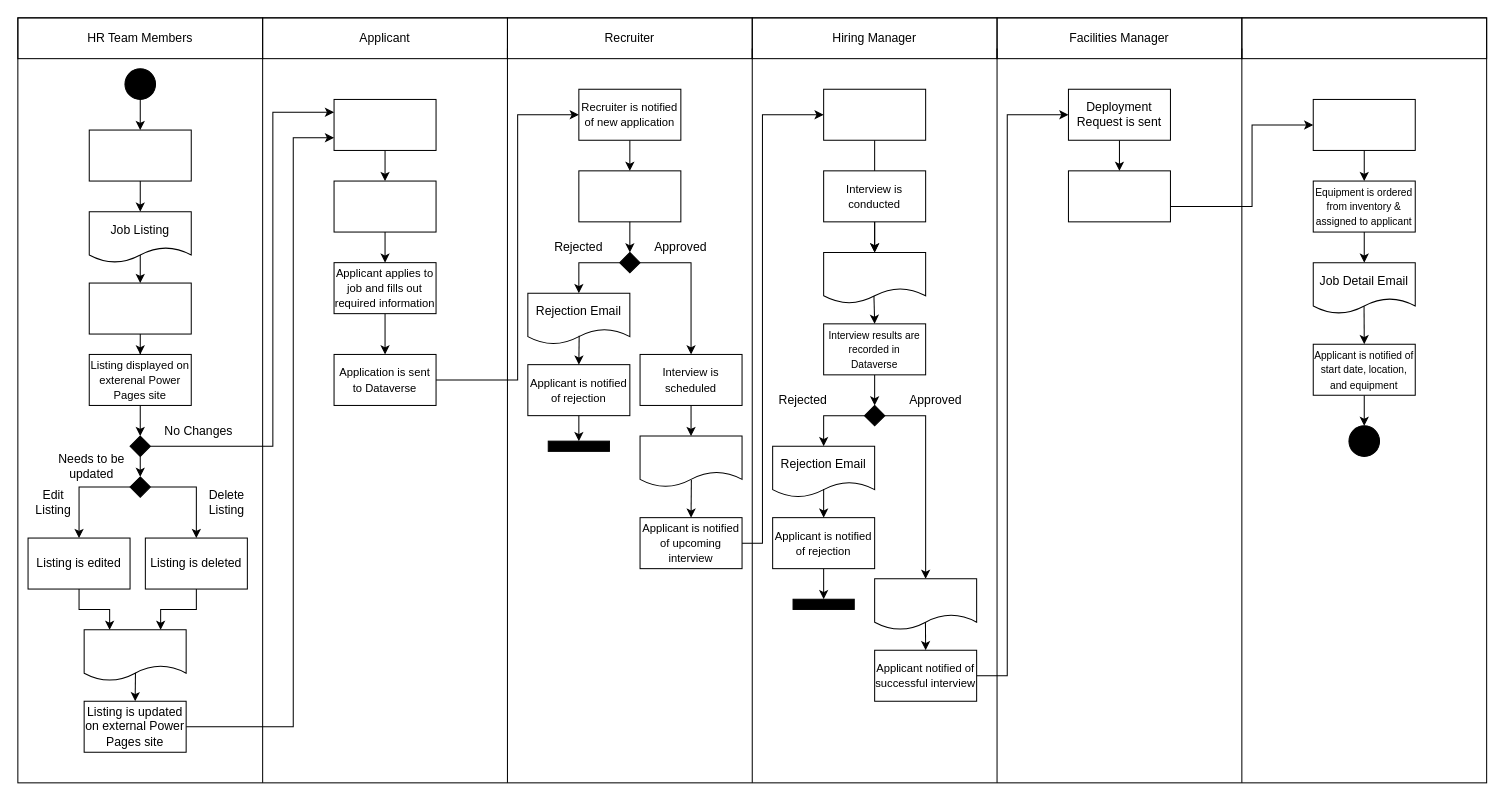
Image size: 1505x802. Some labels were removed from this diagram. The box of each missing label's shape, as (x1, y1, x2, y2) in pixels:
Applicant is assigned a deployment location: (1067, 170, 1170, 222)
Applicant views external facing Power Pages Site: (333, 98, 436, 150)
Applicant views job listing: (333, 180, 436, 232)
Create a new job listing with details: (88, 129, 191, 181)
Equipment Request is sent: (1312, 98, 1415, 150)
Hiring Email: (874, 578, 977, 630)
Hiring Manager is notified of upcoming interview: (823, 88, 926, 140)
Interview Results: (823, 251, 926, 303)
IT Specialists: (1241, 17, 1487, 59)
Listing is sent to Dataverse database: (88, 282, 191, 334)
Reviews job application: (578, 170, 681, 222)
Scheduled Interview Email: (639, 435, 742, 487)
Updated Job Listing: (83, 629, 186, 681)
